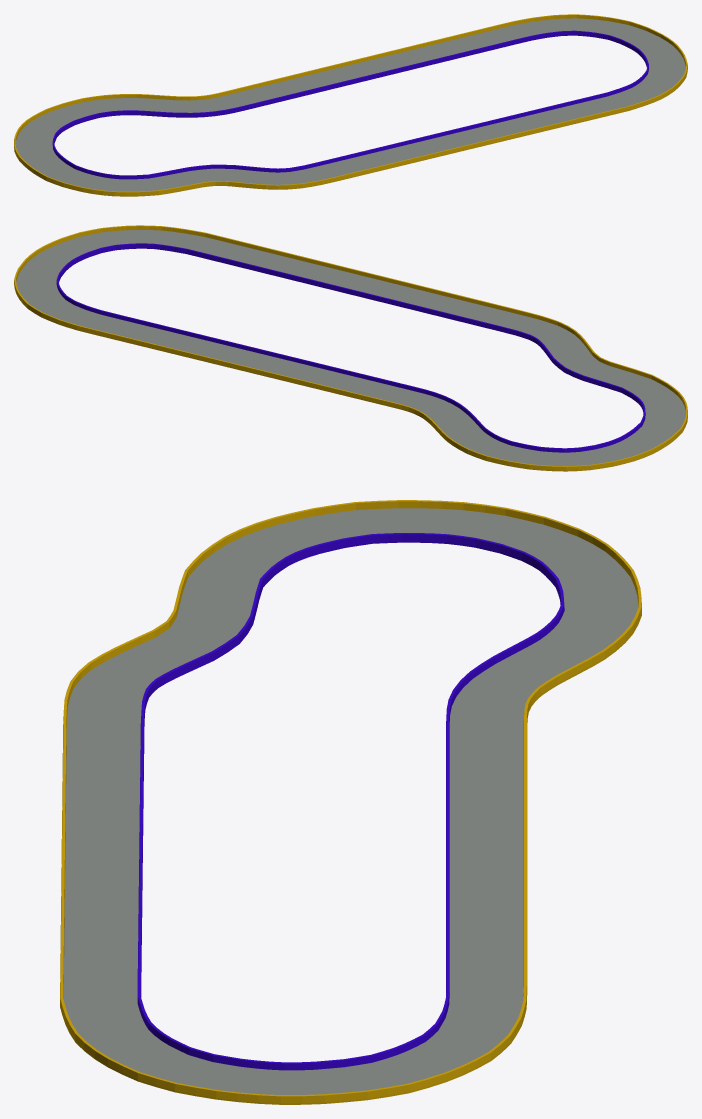
Rendered from track.dae.
3 views of the same model, one above another, from view 1: azimuth 30°, elevation 25°; view 2: azimuth 150°, elevation 25°; view 3: azimuth 270°, elevation 25° (orthographic). The views are drawn at different scales.
Visible parts, largest first — view 1: track; view 2: track; view 3: track.
Boxes of the visible parts, x1,y1,x2,y2 form: track: (14, 14, 687, 196); track: (14, 225, 687, 471); track: (60, 500, 641, 1104).
Bounding box in the file's own units: 30.67 × 12.64 × 0.2008.
